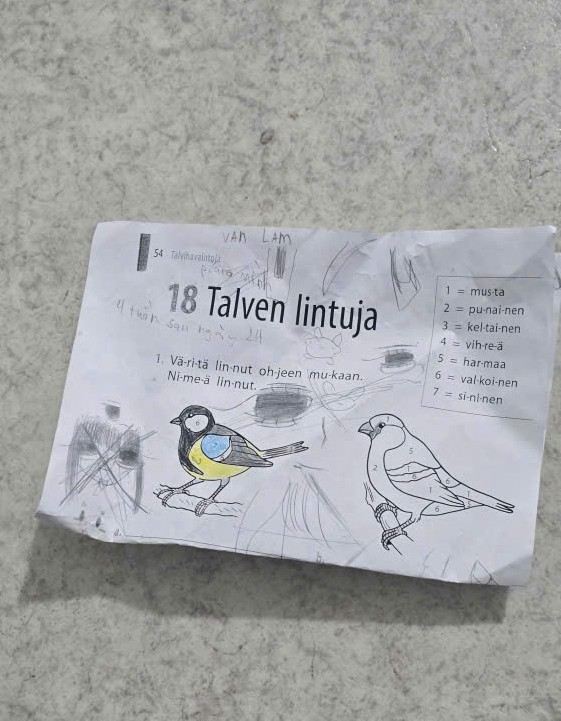paper: (32, 210, 561, 645)
